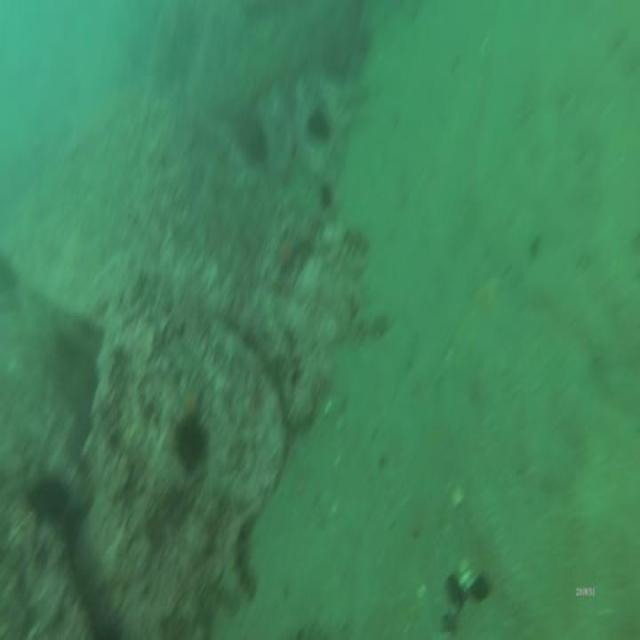echinus: (173, 411, 211, 471)
starfish: (276, 231, 300, 278), (180, 381, 206, 419)
